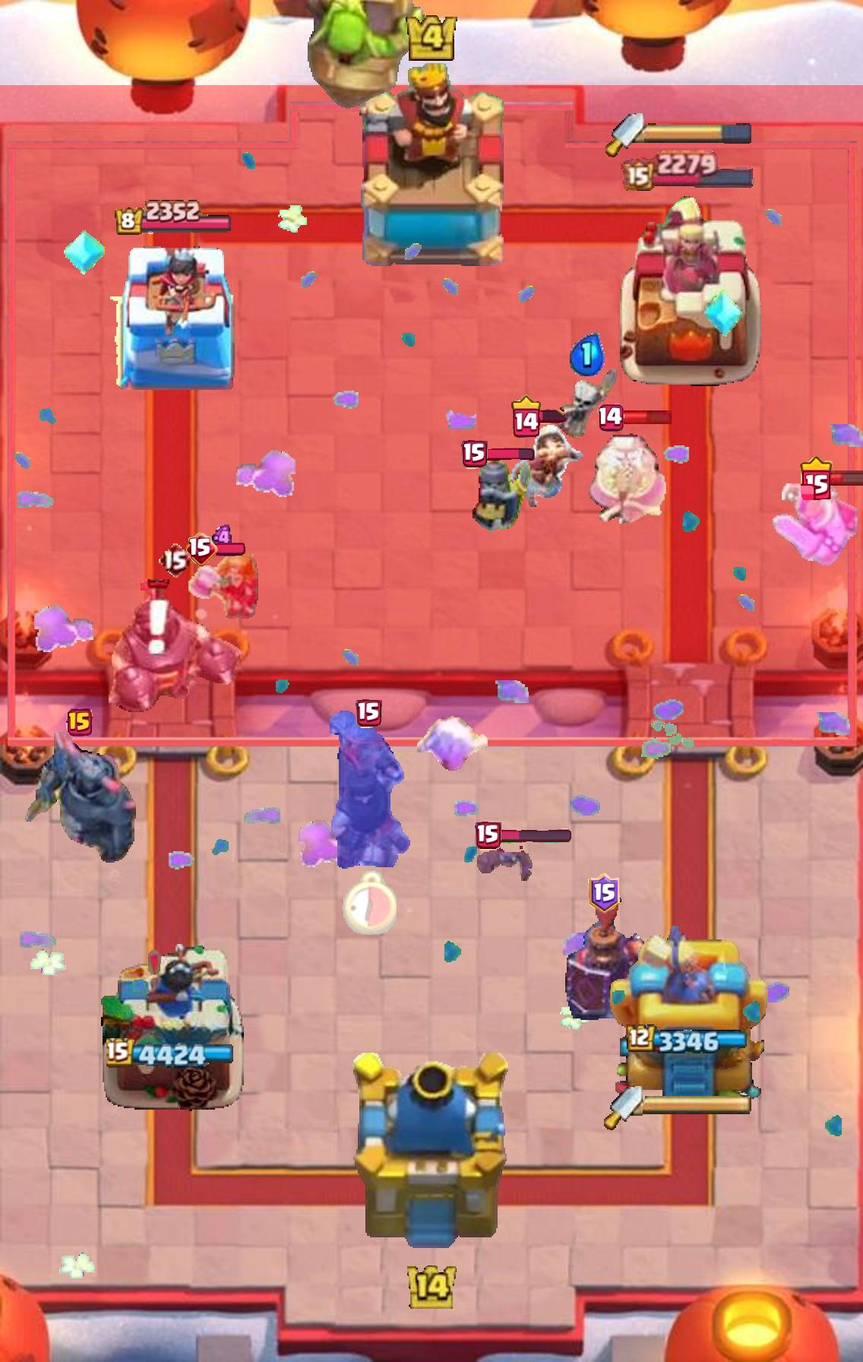bar: (498, 828, 572, 844), (621, 408, 674, 426), (484, 448, 534, 461), (828, 470, 863, 486), (537, 409, 566, 424), (215, 543, 245, 556)
bar-level: (800, 456, 832, 500), (511, 395, 541, 438), (588, 874, 620, 914), (158, 541, 191, 578), (185, 532, 219, 567), (356, 699, 383, 728), (597, 404, 624, 432), (474, 822, 501, 850), (461, 440, 487, 469), (66, 708, 92, 736)
